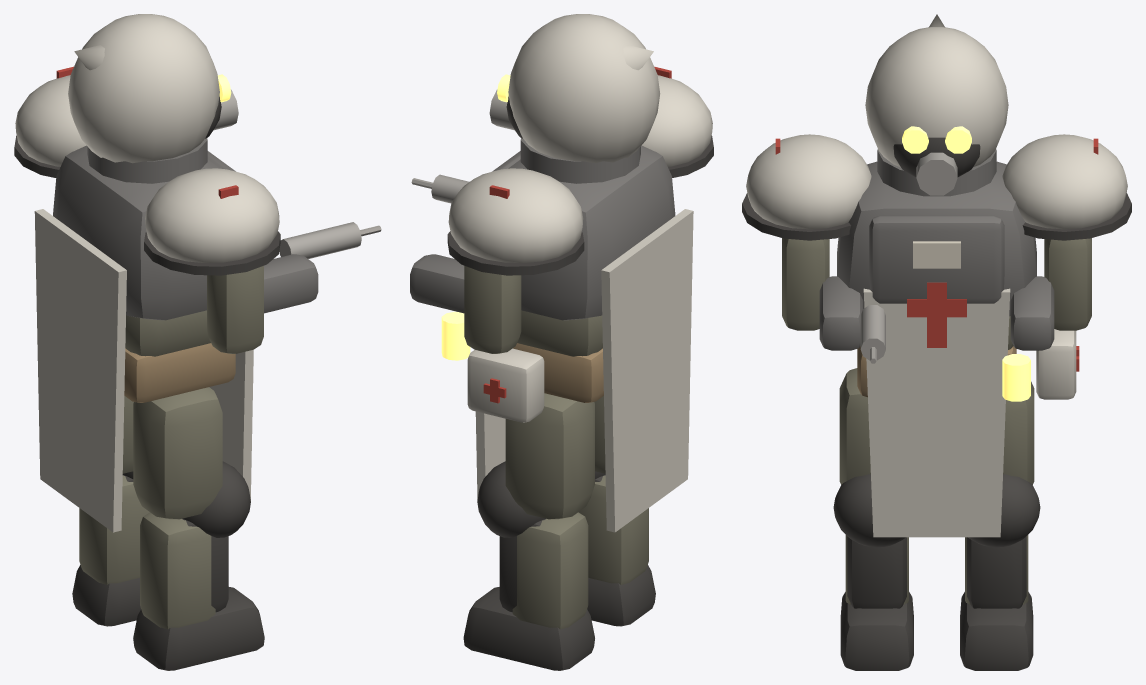
File: hum_medico.glb
3 views of the same model, side by side, from view 1: azimuth 30°, elevation 25°; view 2: azimuth 150°, elevation 25°; view 3: azimuth 270°, elevation 25° (orthographic).
Parts seen in each view (by area): view 1: torso_m, knee_r_m, leg_r_m, knee_l_m, leg_l_m; view 2: torso_m, knee_l_m, leg_l_m, knee_r_m, leg_r_m; view 3: torso_m, knee_l_m, knee_r_m, leg_r_m, leg_l_m.
Part boxes in pixels (bbox=[...]): torso_m: bbox=[14, 14, 381, 532]; knee_r_m: bbox=[133, 461, 264, 670]; leg_r_m: bbox=[133, 387, 222, 519]; knee_l_m: bbox=[72, 471, 149, 626]; leg_l_m: bbox=[122, 396, 133, 473]; torso_m: bbox=[410, 14, 713, 532]; knee_l_m: bbox=[463, 461, 594, 670]; leg_l_m: bbox=[505, 393, 594, 519]; knee_r_m: bbox=[578, 471, 655, 626]; leg_r_m: bbox=[594, 396, 605, 473]; torso_m: bbox=[742, 14, 1131, 537]; knee_l_m: bbox=[960, 474, 1040, 670]; knee_r_m: bbox=[833, 474, 913, 670]; leg_r_m: bbox=[839, 368, 870, 484]; leg_l_m: bbox=[1003, 381, 1034, 484].
Bounding box in the file's own units: 0.3896 × 0.84 × 0.49.
